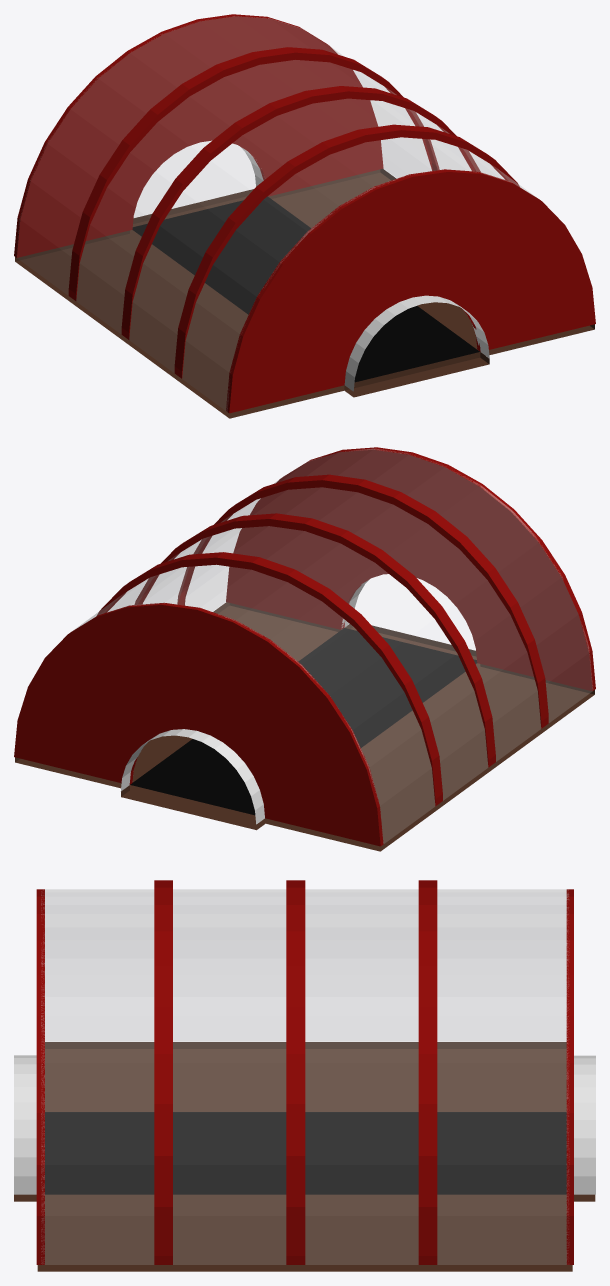
Rendered from sera (1).fbx.
3 renders of one model, top to bottom at view 1: azimuth 30°, elevation 25°; view 2: azimuth 150°, elevation 25°; view 3: azimuth 270°, elevation 25°, orthographic. The views are drawn at different scales.
Parts seen in each view (by area): view 1: Cylinder; view 2: Cylinder; view 3: Cylinder.
Boxes of the visible parts, x1,y1,x2,y2 form: Cylinder: (14, 14, 595, 418); Cylinder: (14, 447, 595, 851); Cylinder: (14, 880, 595, 1271).
Bounding box in the file's own units: 879 × 469 × 968.
